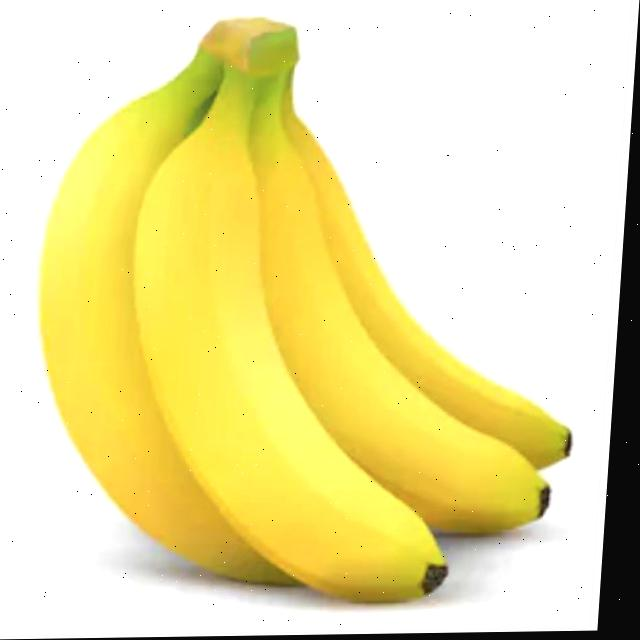banana: (15, 22, 601, 604)
